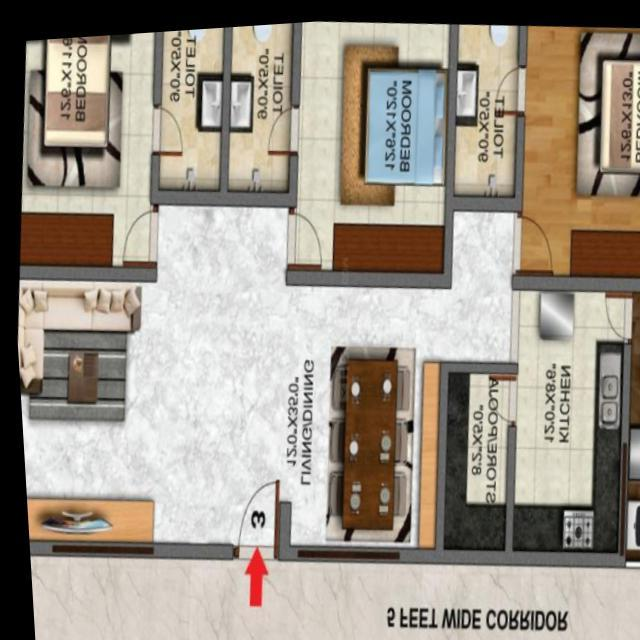Bedroom with Toilet: (224, 16, 454, 278), (17, 22, 229, 269), (450, 20, 640, 285)
Dining: (317, 326, 417, 562)
Enterance-Foyer: (226, 453, 275, 574)
Kitchen: (505, 289, 623, 552)
Living: (14, 271, 282, 537)
Pooja: (437, 372, 506, 547)
Toilet: (452, 20, 520, 194), (226, 18, 294, 185), (157, 22, 225, 184)
Utility: (620, 288, 640, 560)
